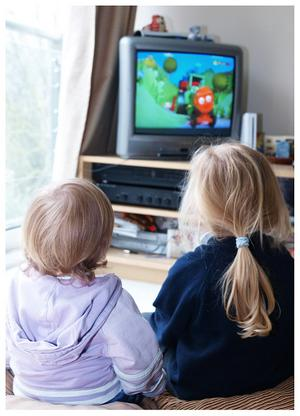person: (7, 176, 164, 406)
